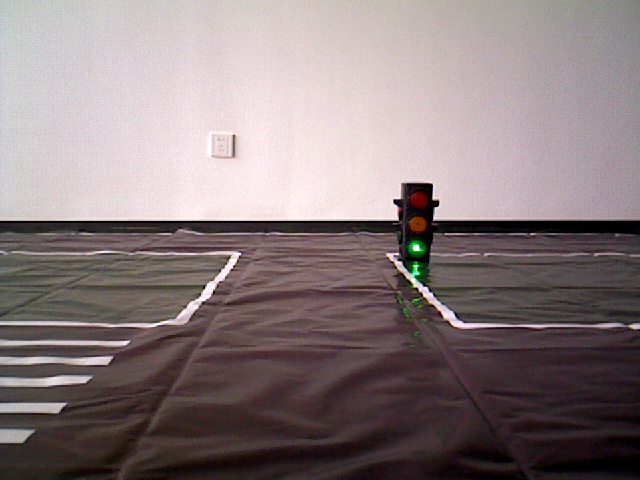green: (400, 185, 432, 257)
